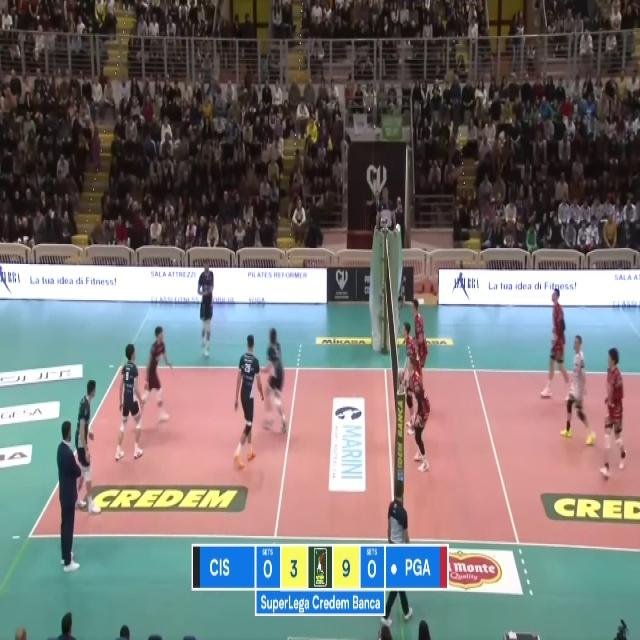volleyball court: (26, 362, 639, 546)
